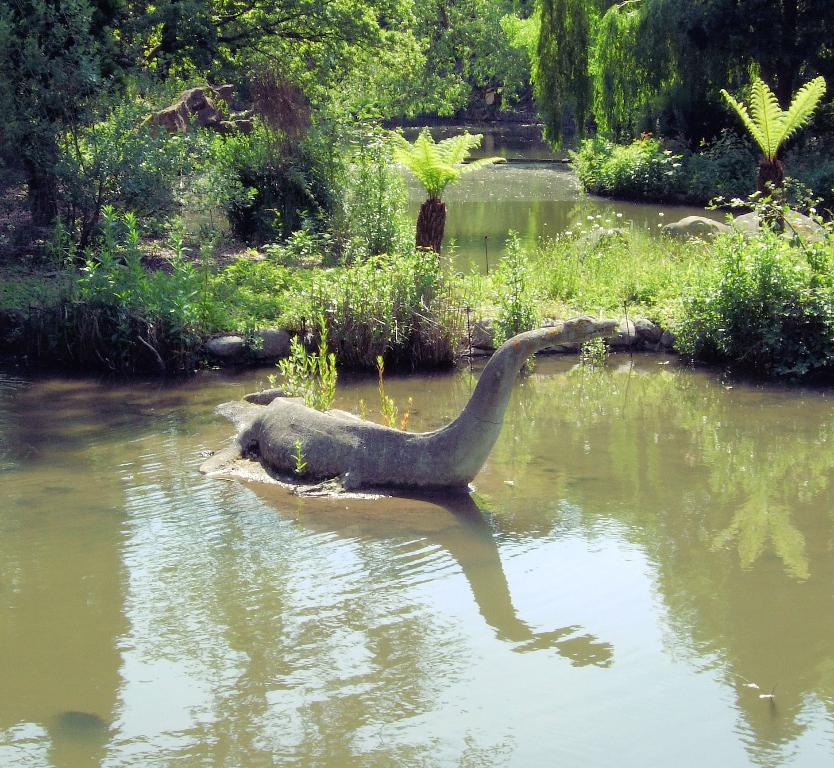Animal: (192, 314, 616, 504)
